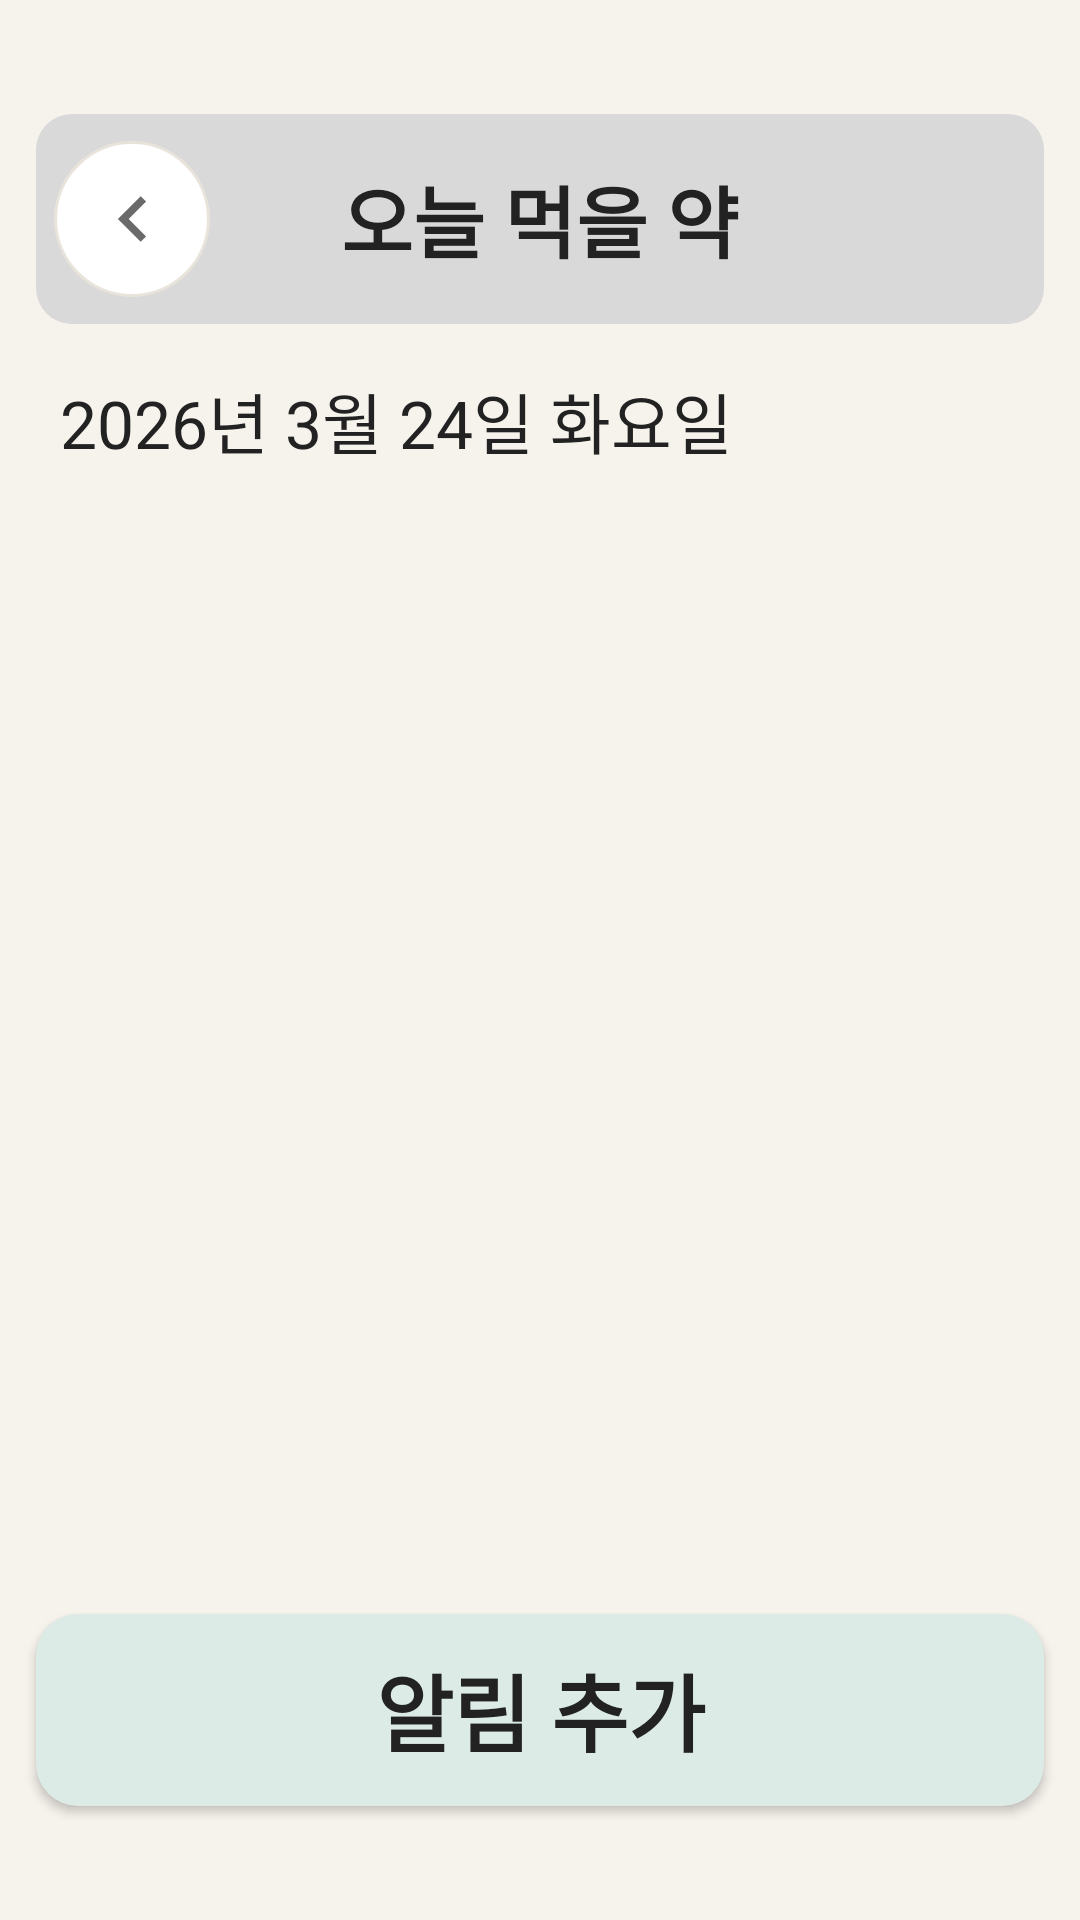

Screen size 1080*1920. Icon name, then its center in pixels as (x,y):
뒤로가기: (132,219)
